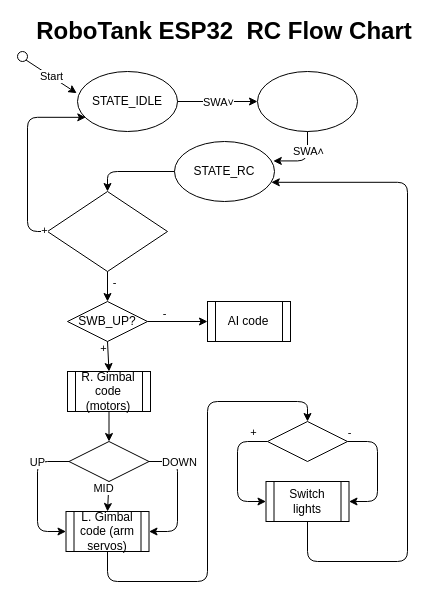
Image size: 433x607. Some labels were removed from this diagram. Here are the shapes that lost their labels. From the top down, the centre of each, then its label:
At [307,101]: "STATE_RC_PRE".
At [107,231]: "disconnected? || SWA_DOWN?".
At [108,461]: "SWC_POS".
At [307,441]: "SWD_UP?".
